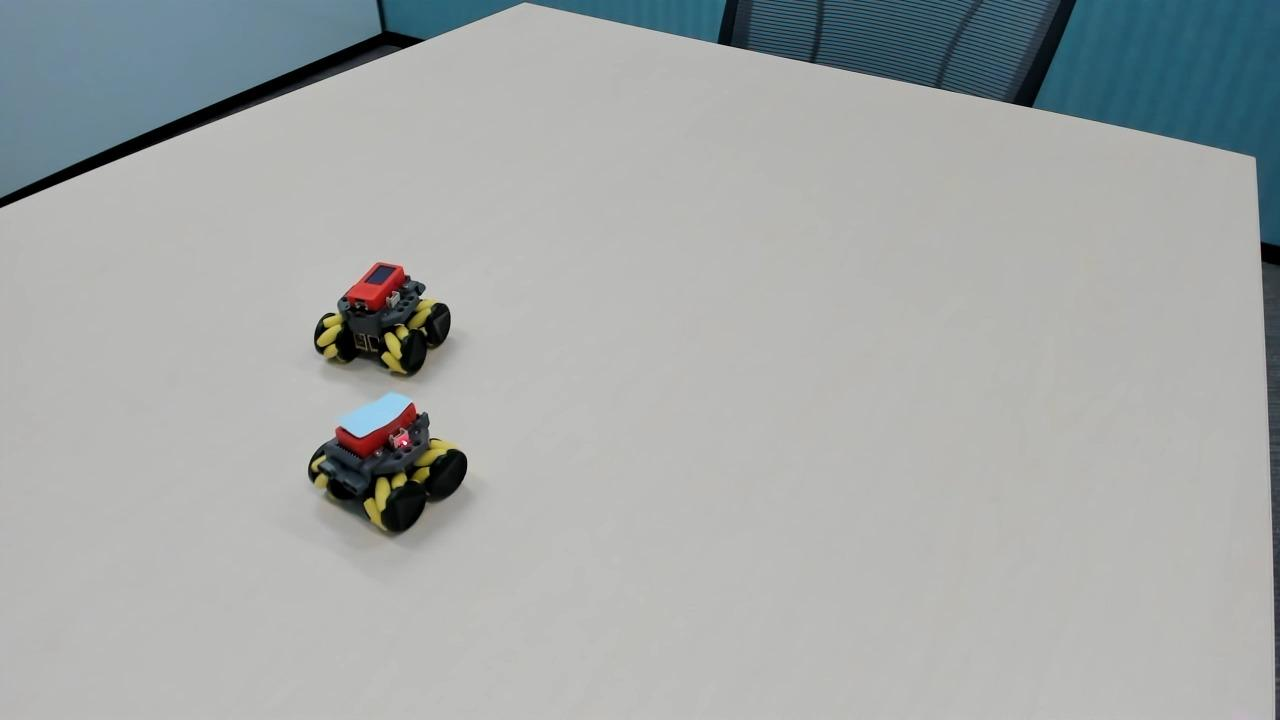B-Robot: (305, 390, 482, 549)
R-Robot: (308, 255, 455, 384)
